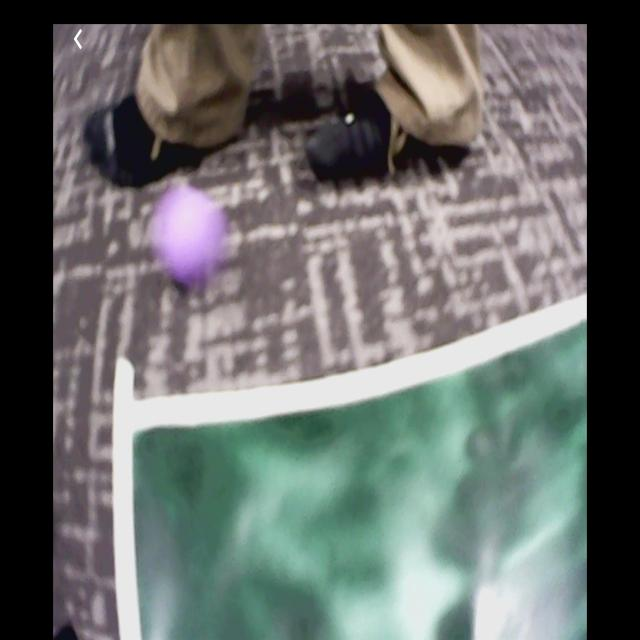ball: (159, 188, 214, 279)
